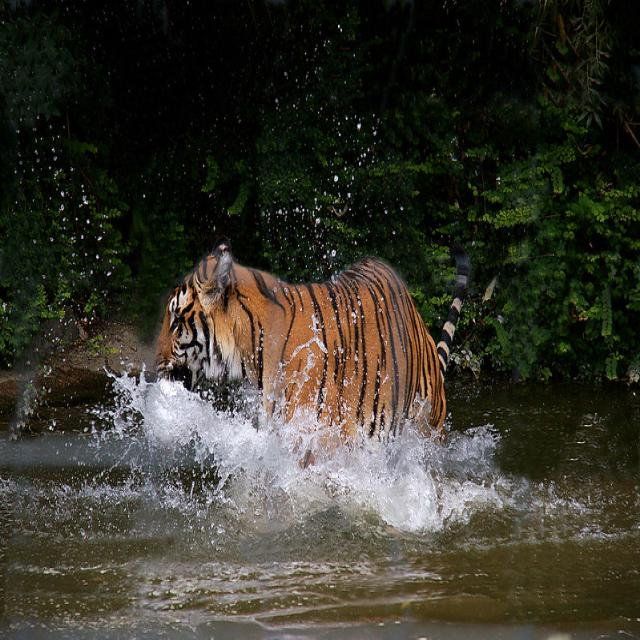Tiger: (153, 240, 467, 464)
